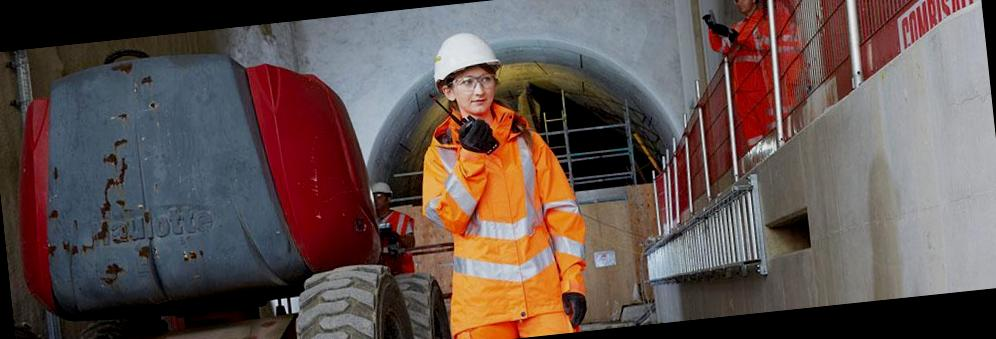helmet: (421, 26, 514, 86)
person: (399, 17, 600, 339)
